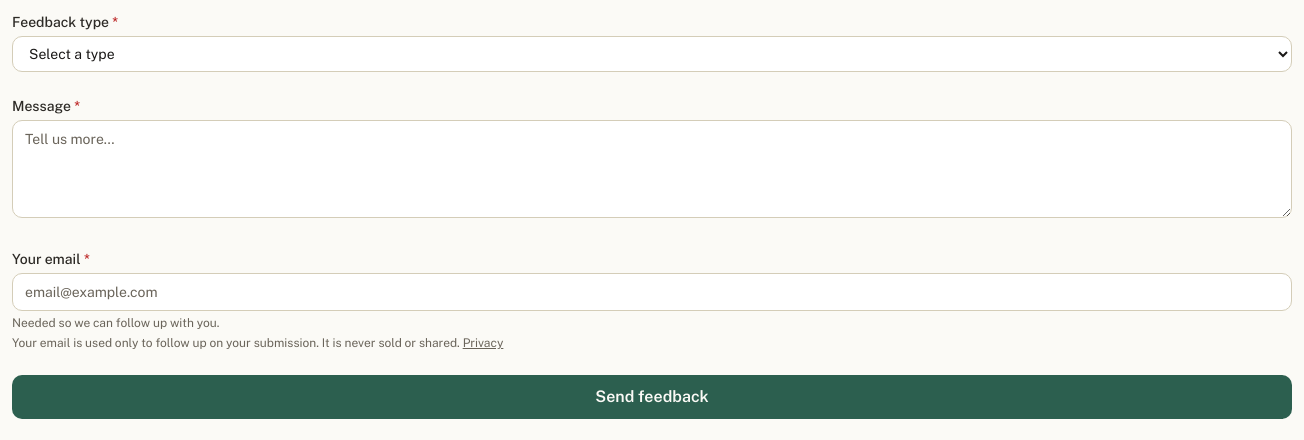
Test: FeedbackForm — client validation › shows email error for invalid email format
Select "Problem or bug" in the dropdown labelled "Feedback type *" at (652, 54), box [12,36,1292,72]
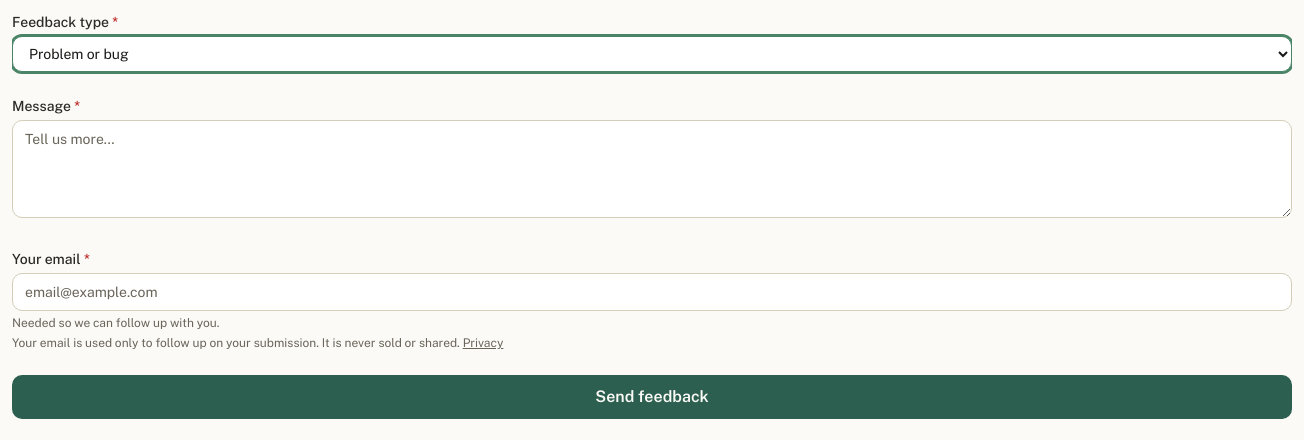
Type "The search bar is broken." into the text box labelled "Message *" at (652, 169), box [12,120,1292,218]
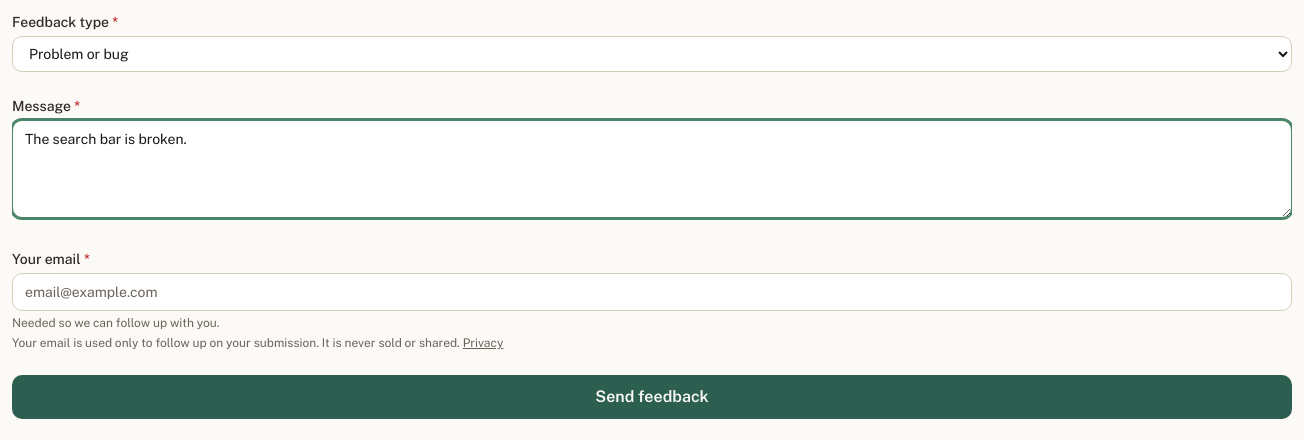
Type "not-an-email" into the field labelled "Your email *" at (652, 292), box [12,273,1292,311]
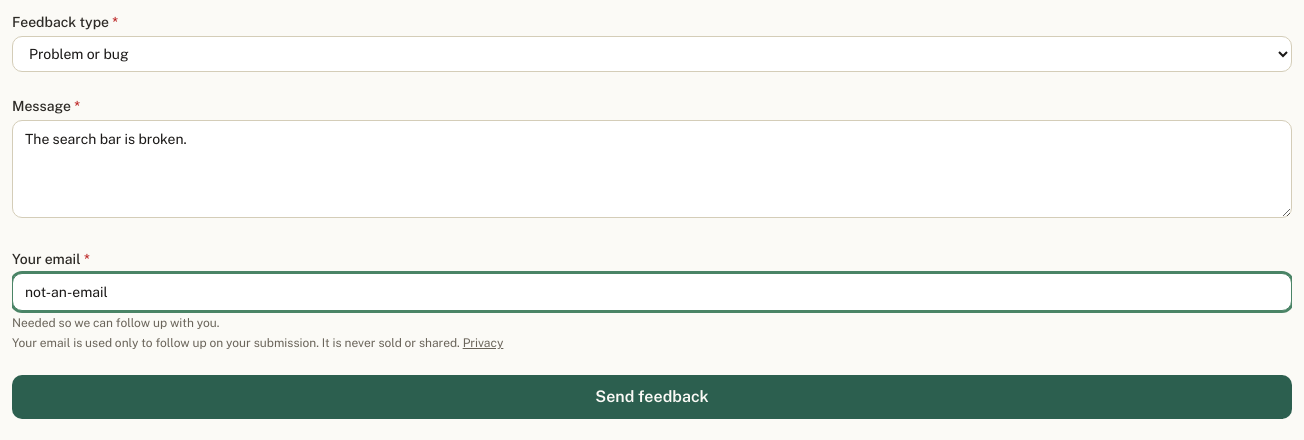
Click the button "Send feedback" at (652, 397), box [12,375,1292,419]
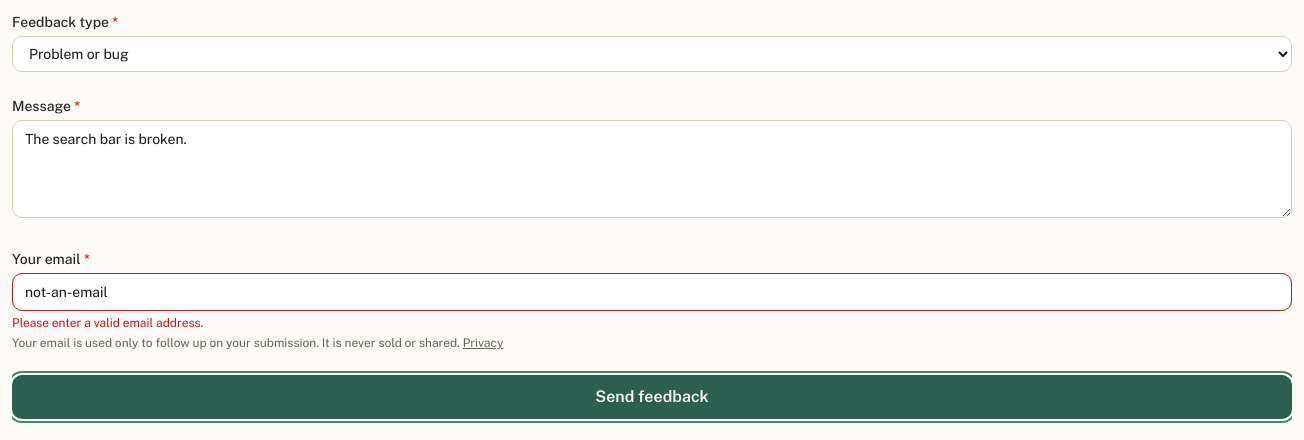
Expected: the text "Please enter a valid email address." is shown, [12,316,203,330]
